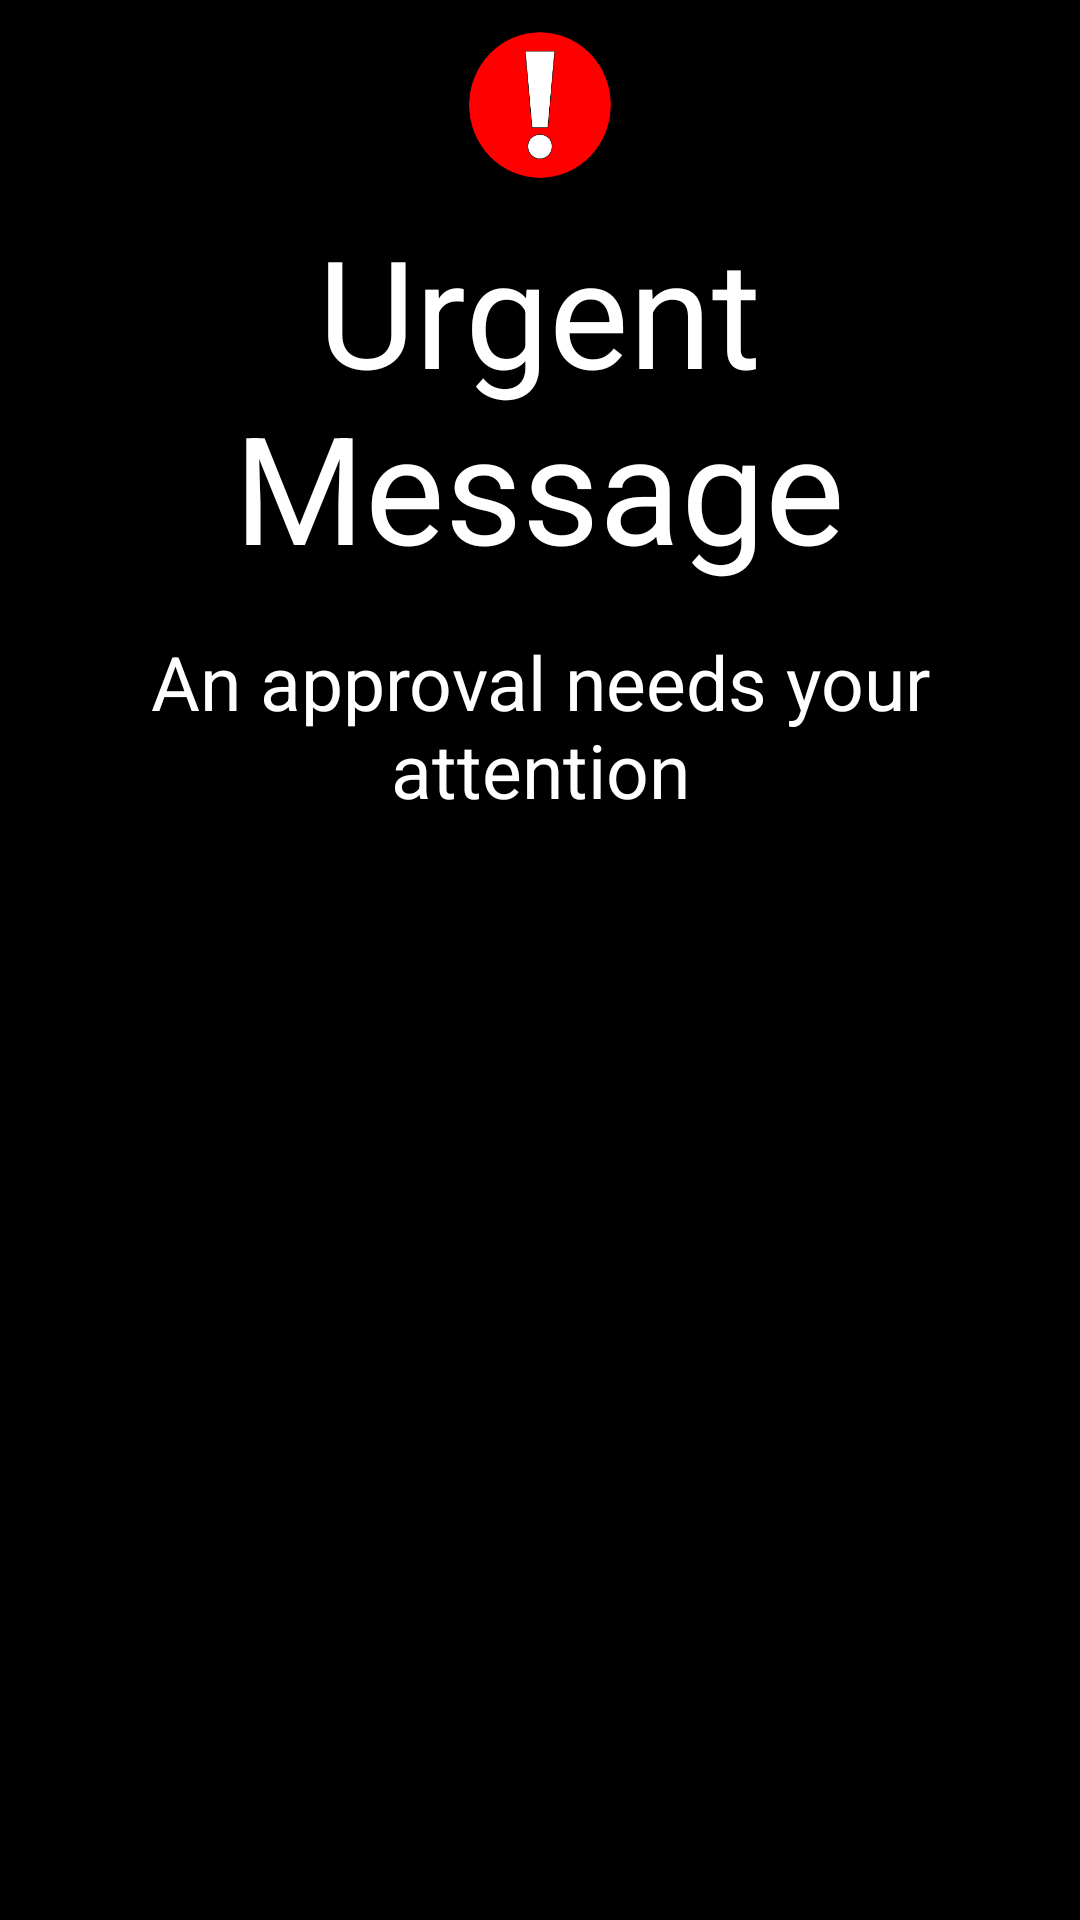

Where icons sit on this 1080px x 1920px app screen, as box=[x1, y1, x2, y2]:
alertmessage: box=[469, 32, 611, 178]
